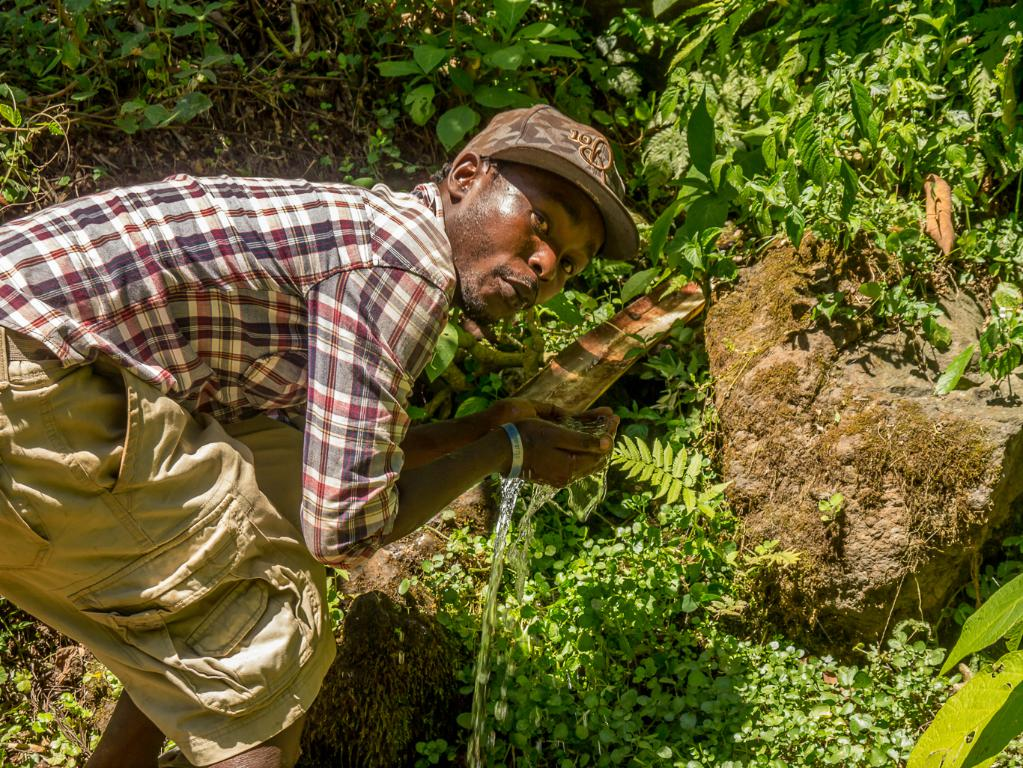face: (449, 175, 591, 317)
